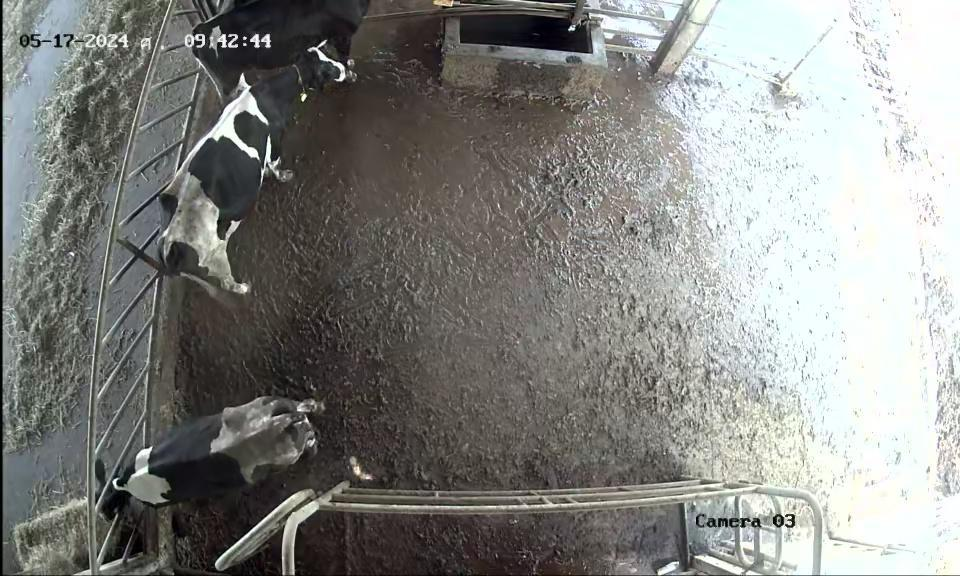eat: (59, 446, 180, 538)
stand: (137, 43, 375, 305), (182, 0, 394, 77)
